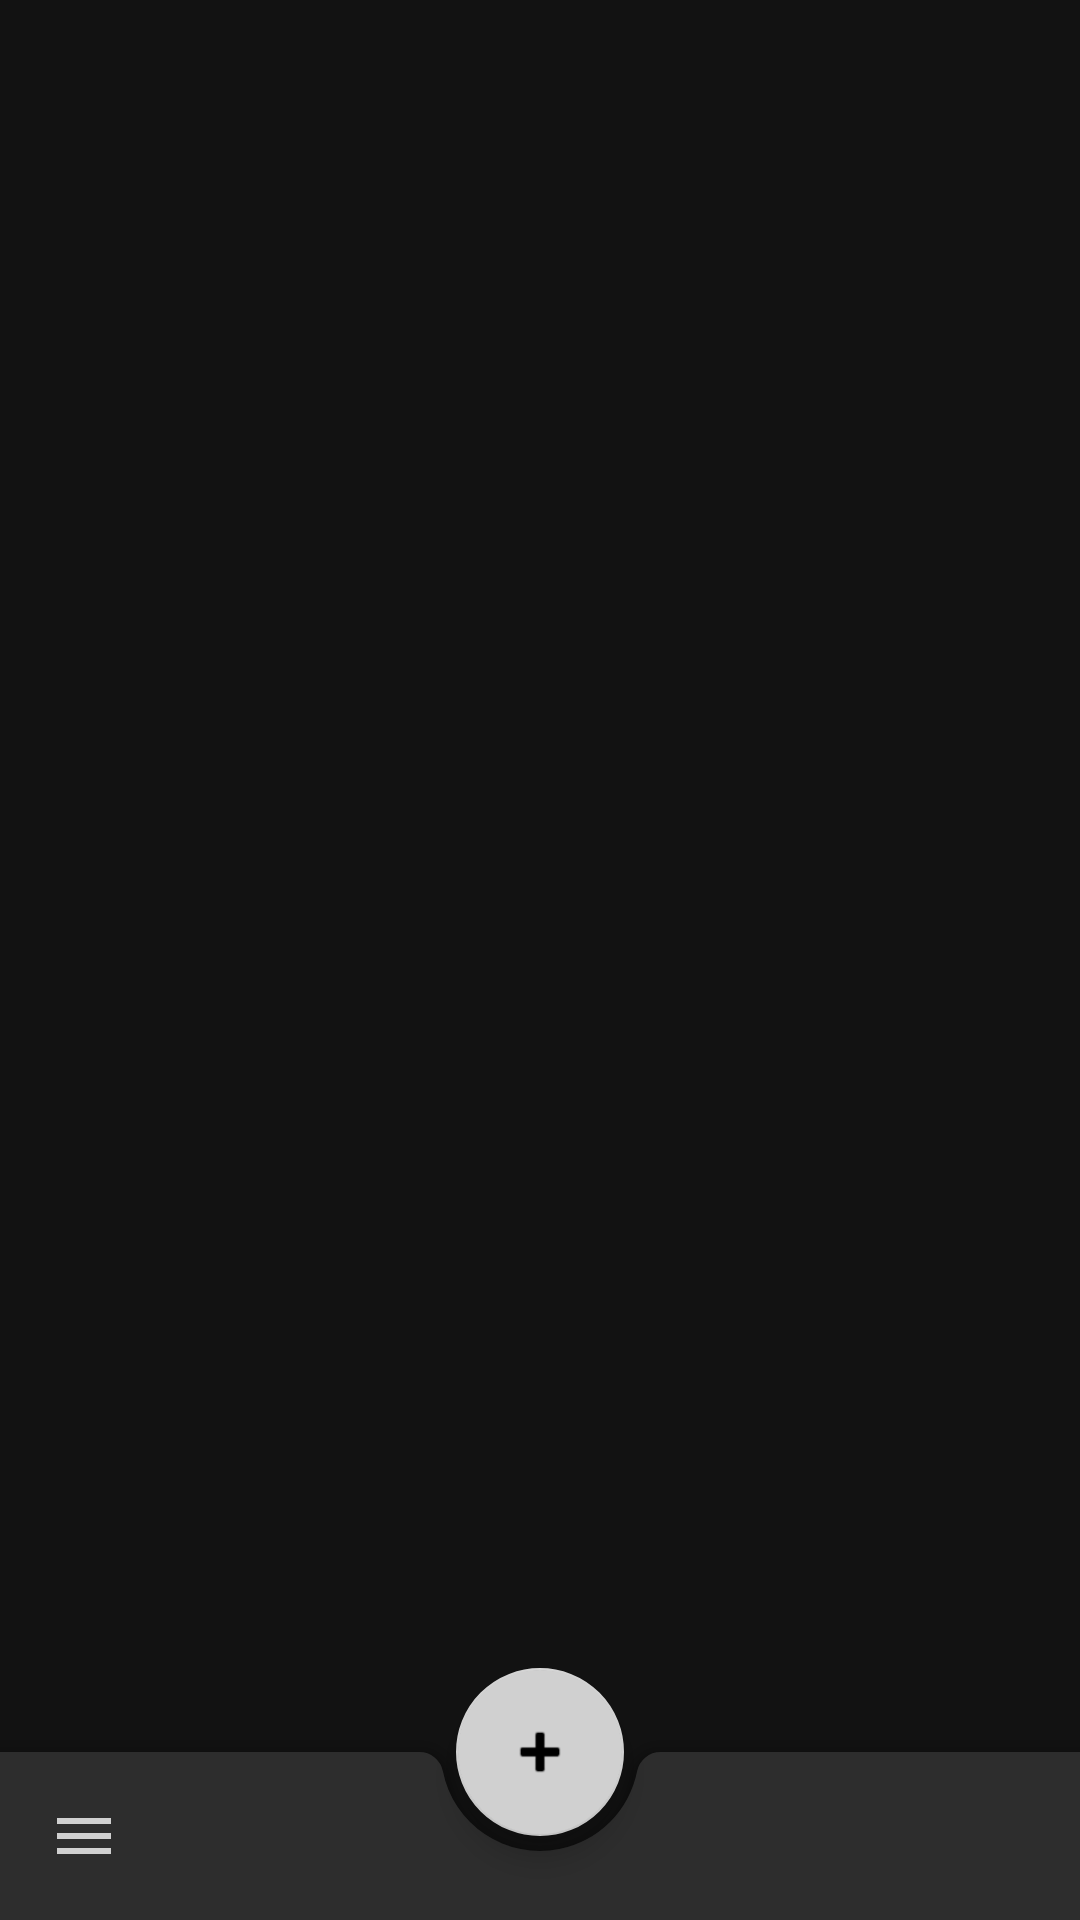

Screen size 1080w x 1920h. Icon name, then its box in pixels as [left=x1, top=y1, right=x2, bottom=y2]:
add: [left=456, top=1668, right=624, bottom=1836]
